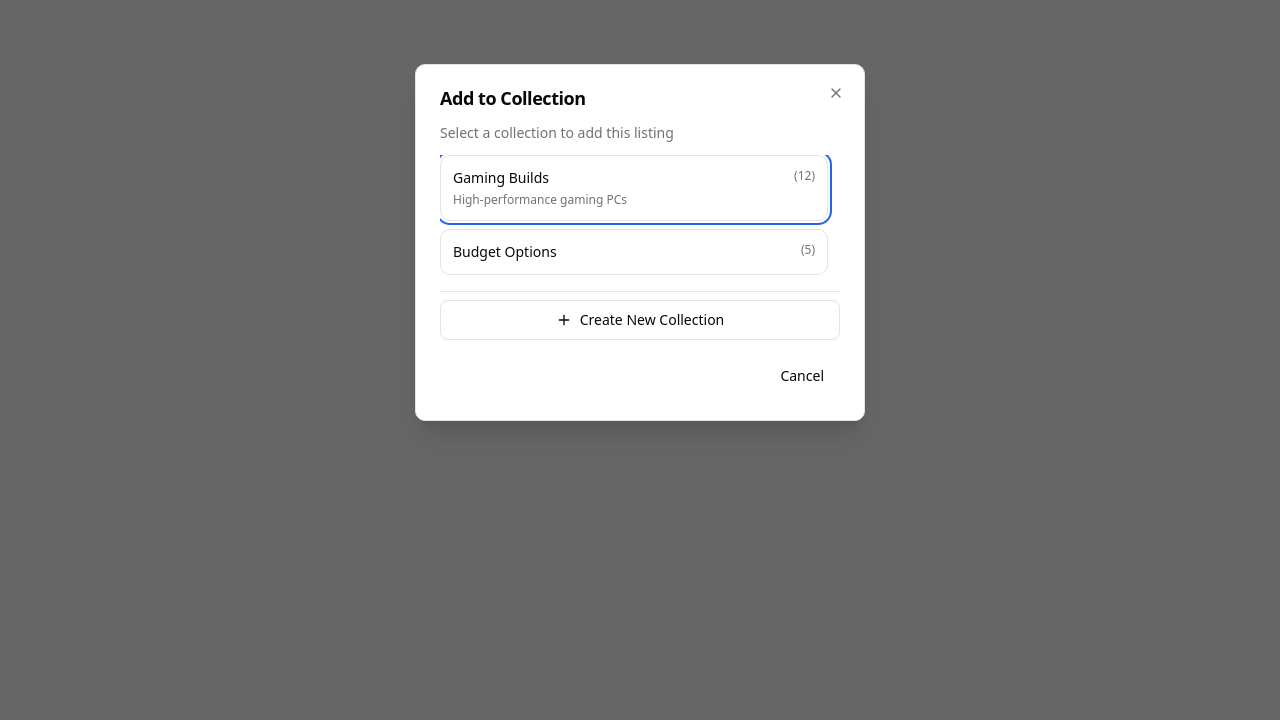
CollectionSelectorModal › Adding to Existing Collection › shows loading state while adding
The width and height of the screenshot is (1280, 720).
Step 1. Click the button with aria-label "Add to Gaming Builds" → [501, 178], box [440,155,828,221]
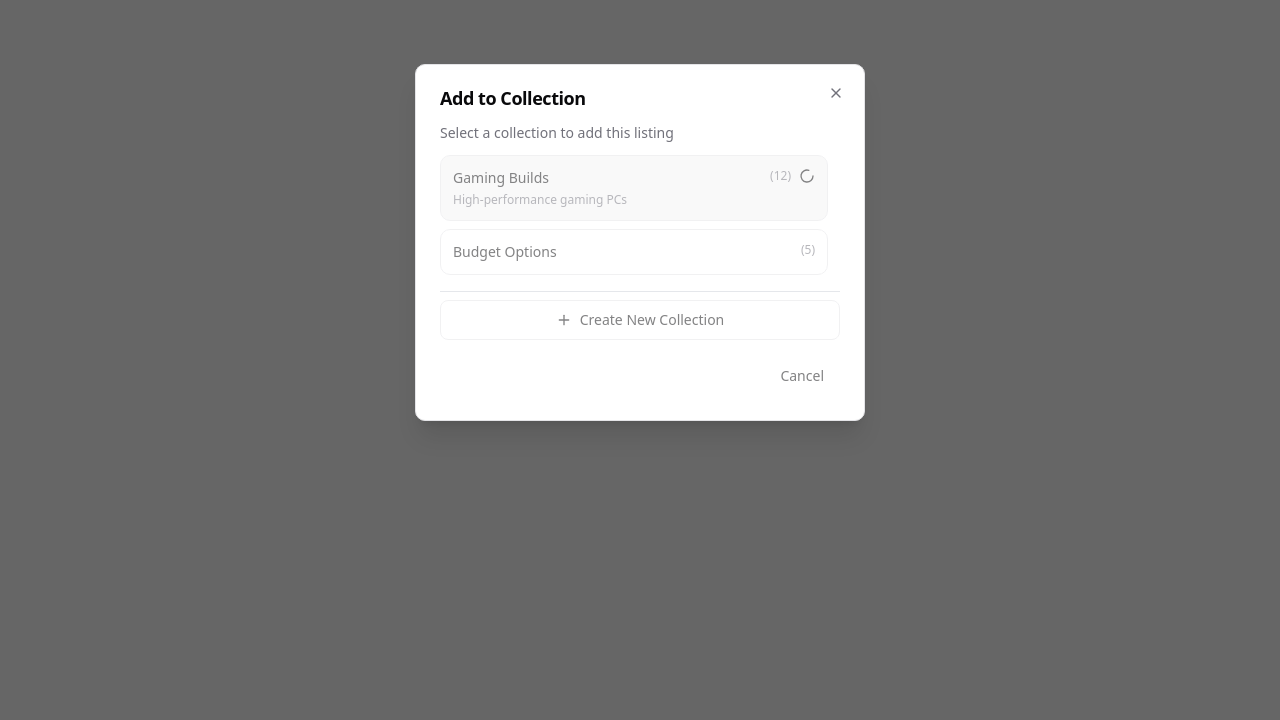
Result: the button "Create New Collection" is disabled at [440,300,840,340]
Result: the button "Cancel" is disabled at [764,356,840,396]
